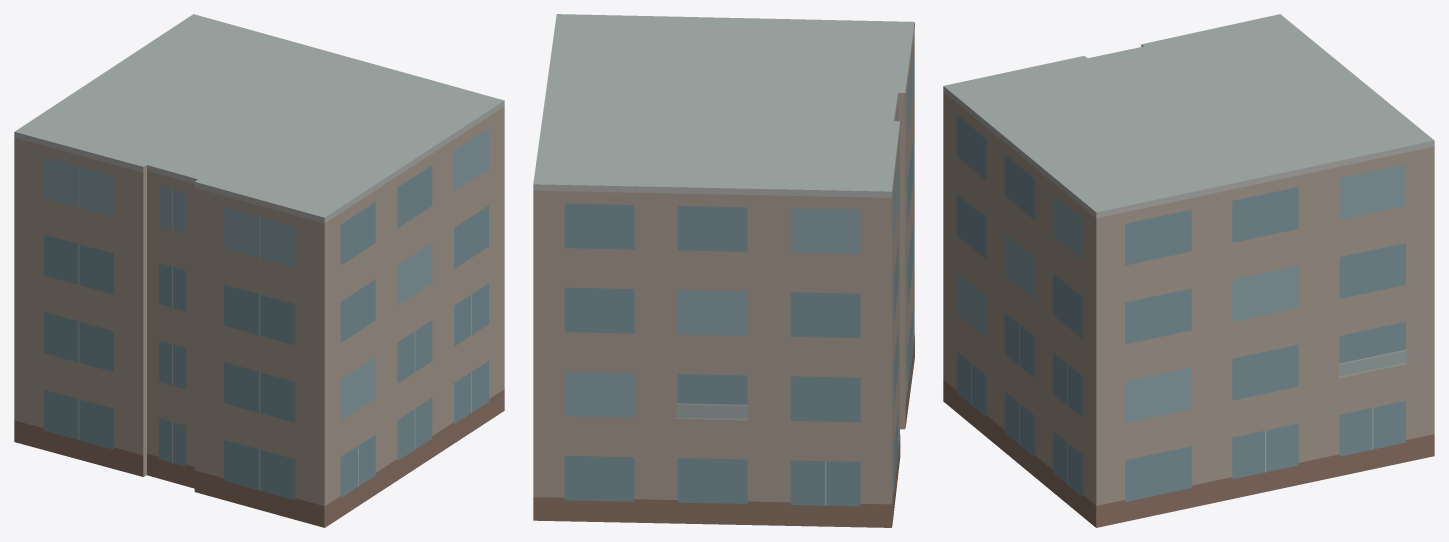
The model's file is survey-upis-32725054.glb.
3 renders of one model, left to right at view 1: azimuth 30°, elevation 25°; view 2: azimuth 150°, elevation 25°; view 3: azimuth 270°, elevation 25°, orthographic. The views are drawn at different scales.
Visible parts, largest first — view 1: survey-upis-32725054.tmp; view 2: survey-upis-32725054.tmp; view 3: survey-upis-32725054.tmp.
Boxes of the visible parts, box(x1,y1,x2,y2) form: survey-upis-32725054.tmp: box(14, 14, 504, 527); survey-upis-32725054.tmp: box(533, 14, 914, 527); survey-upis-32725054.tmp: box(943, 14, 1434, 527).
Size of the model in its own units: 17.55 by 13 by 18.36.
